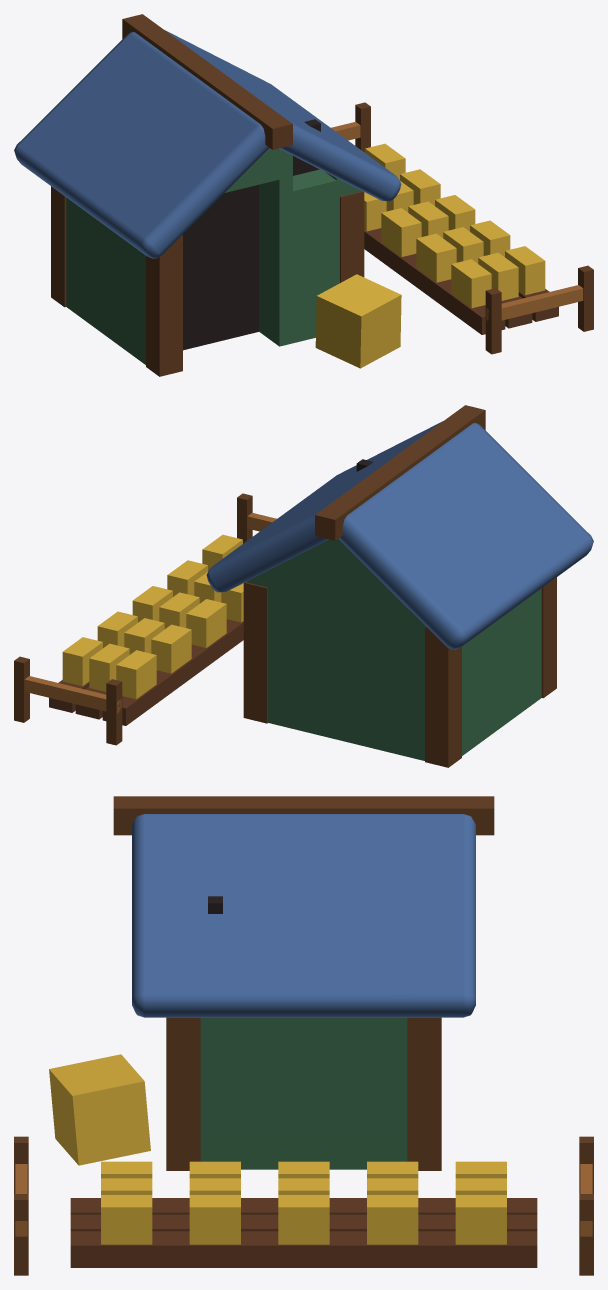
Rendered from Buildings__farm_b.glb.
3 renders of one model, top to bottom at view 1: azimuth 30°, elevation 25°; view 2: azimuth 150°, elevation 25°; view 3: azimuth 270°, elevation 25°, orthographic. The views are drawn at different scales.
Parts seen in each view (by area): view 1: farm_b_mesh; view 2: farm_b_mesh; view 3: farm_b_mesh.
Boxes of the visible parts, bbox=[...] form: farm_b_mesh: bbox=[14, 14, 593, 376]; farm_b_mesh: bbox=[14, 405, 593, 767]; farm_b_mesh: bbox=[14, 796, 593, 1275].
Bounding box in the file's own units: 2.39 × 1.37 × 2.36.
